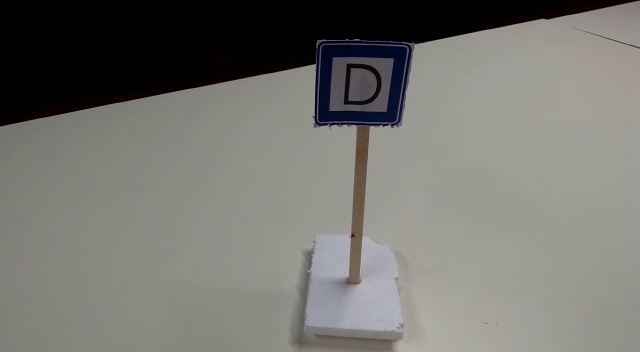durak: (314, 40, 407, 128)
